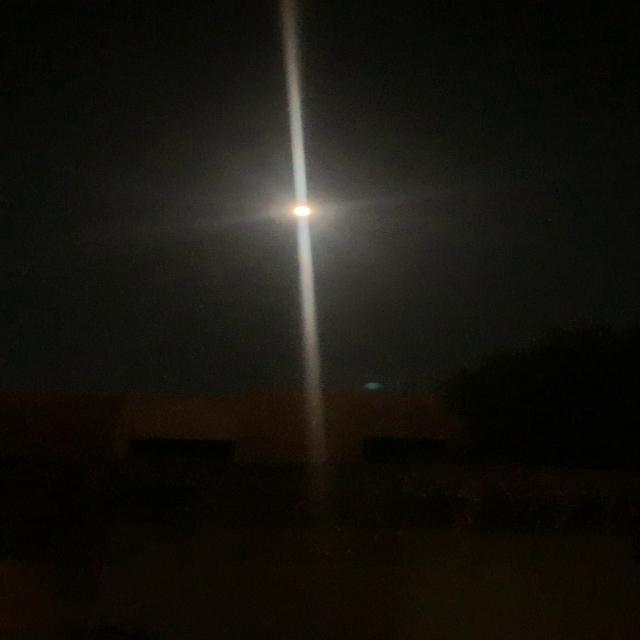moon: (272, 198, 334, 231)
